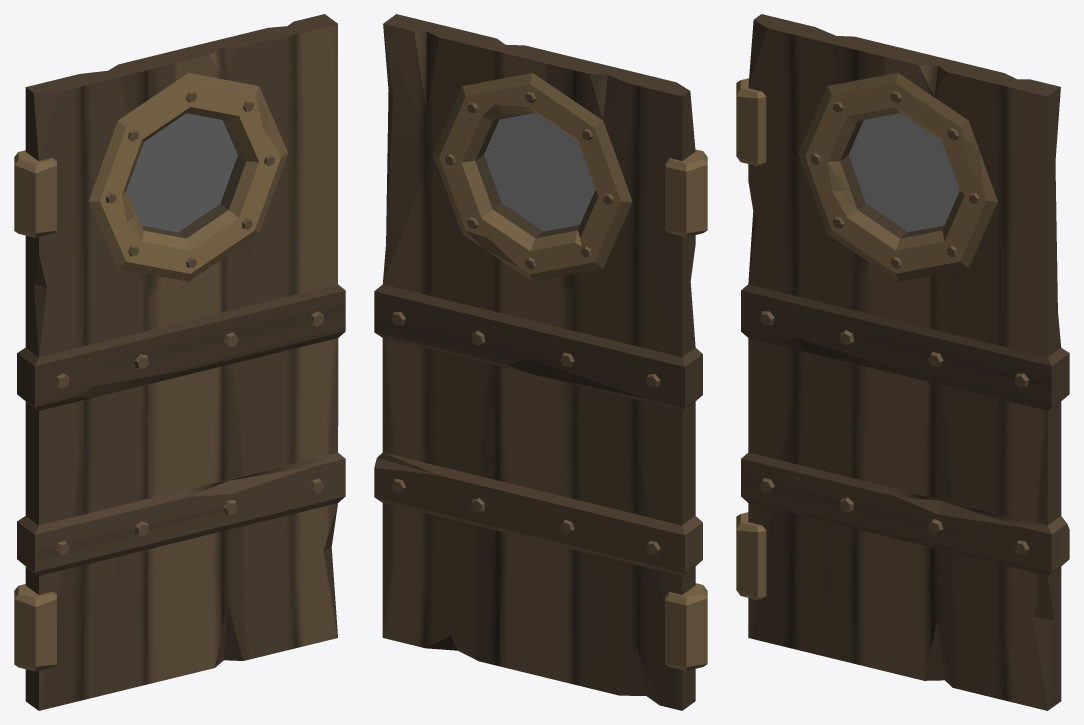
File: SM_Bld_Door_02.fbx
3 renders of one model, left to right at view 1: azimuth 30°, elevation 25°; view 2: azimuth 150°, elevation 25°; view 3: azimuth 330°, elevation 25°, orthographic.
Visible parts, largest first — view 1: SM_Bld_Door_02, SM_Bld_Door_02_Glass; view 2: SM_Bld_Door_02, SM_Bld_Door_02_Glass; view 3: SM_Bld_Door_02, SM_Bld_Door_02_Glass.
Part boxes in pixels (box(x1,y1,x2,y2)): SM_Bld_Door_02: box(14, 14, 345, 710); SM_Bld_Door_02_Glass: box(126, 113, 246, 238); SM_Bld_Door_02: box(374, 14, 707, 710); SM_Bld_Door_02_Glass: box(475, 112, 595, 237); SM_Bld_Door_02: box(736, 14, 1069, 710); SM_Bld_Door_02_Glass: box(840, 113, 959, 238).
Size of the model in its own units: 108 by 197 by 13.22.
